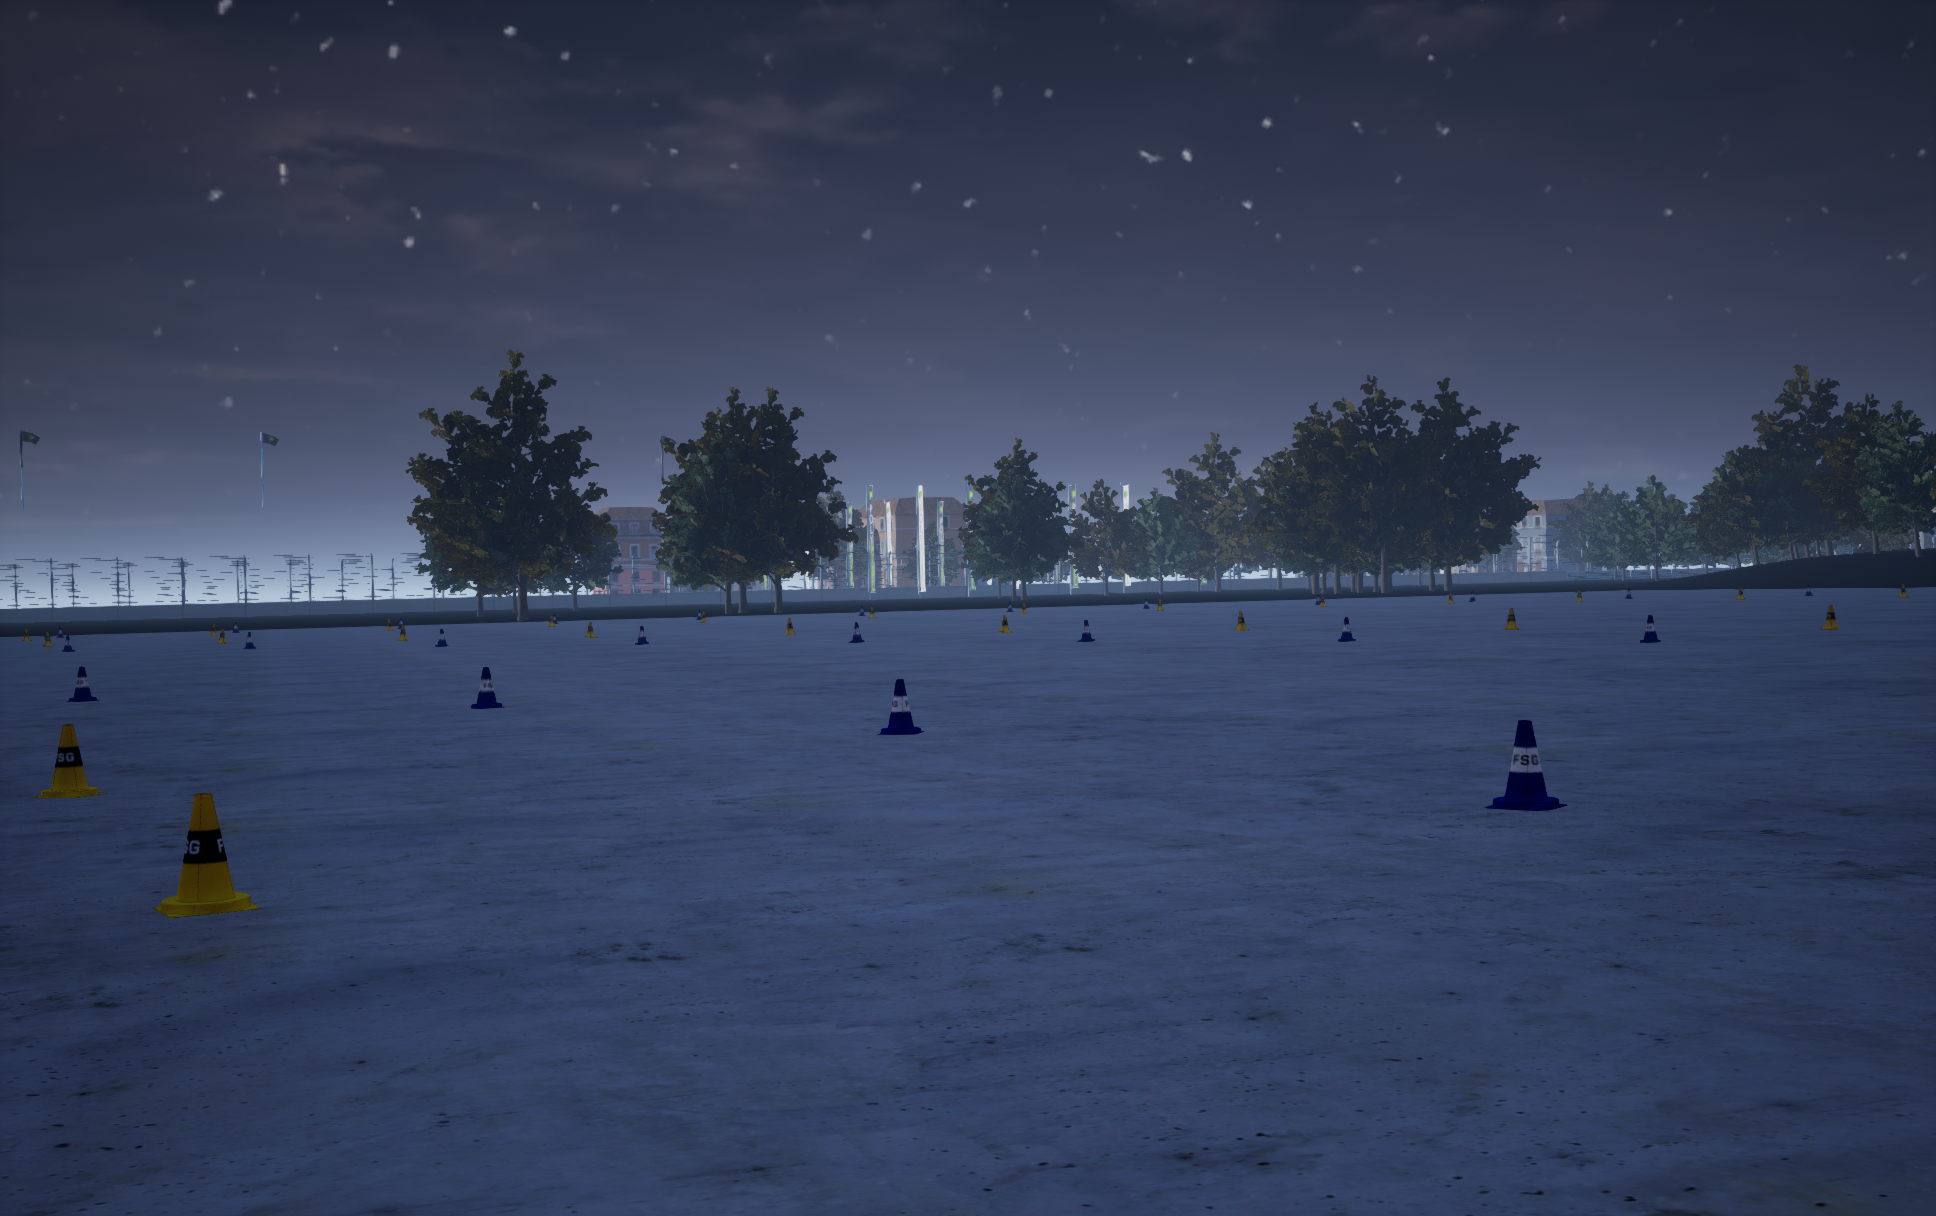blue: (153, 793, 259, 918), (31, 724, 106, 797), (1821, 605, 1839, 629), (1503, 608, 1521, 629), (1234, 611, 1248, 630), (997, 615, 1011, 632)
yellow: (1484, 720, 1568, 810), (877, 679, 925, 734), (471, 667, 504, 707), (66, 665, 99, 700), (1640, 615, 1660, 642), (1338, 616, 1355, 642), (1076, 621, 1094, 642), (848, 622, 864, 642), (635, 626, 649, 644)
